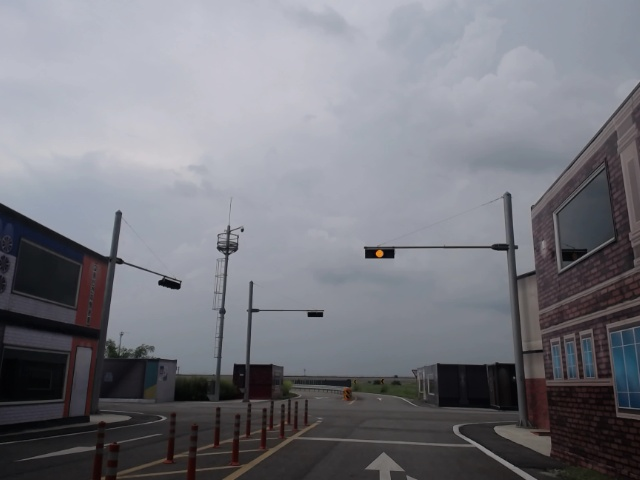orange_3: (364, 248, 395, 259)
